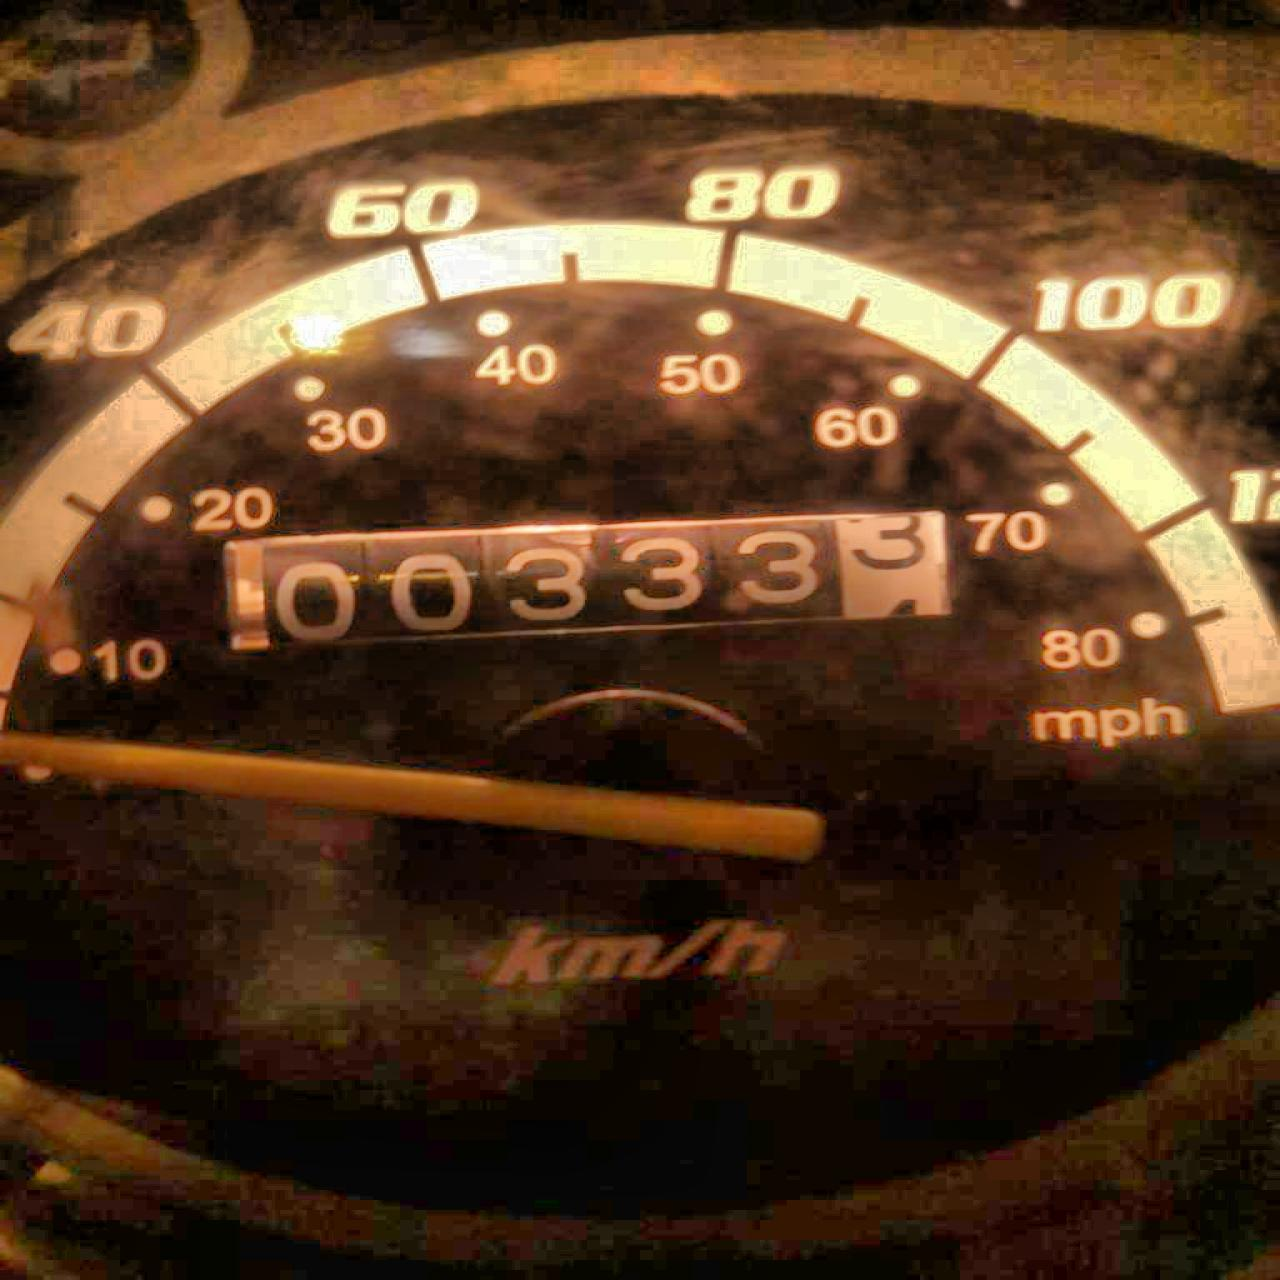0: (268, 556, 359, 645), (386, 550, 477, 634)
3: (729, 527, 824, 606), (498, 543, 590, 624), (615, 533, 704, 613), (842, 511, 928, 572)
odometer: (205, 508, 959, 654)
